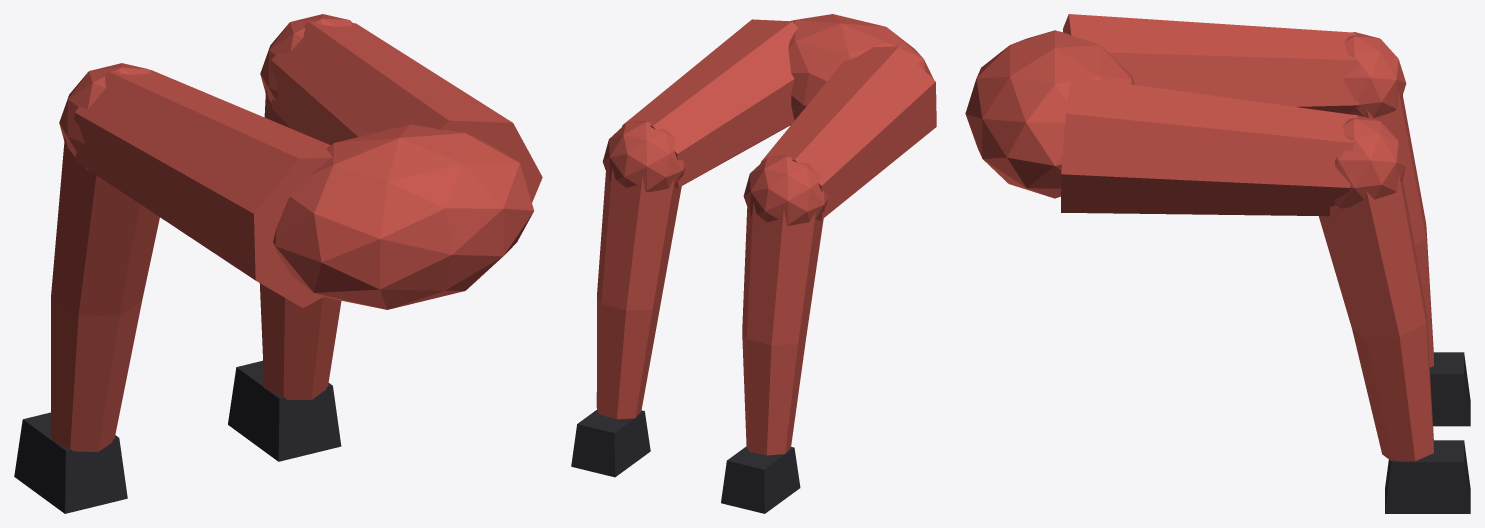
File: SatanLegsSeated.obj
3 renders of one model, left to right at view 1: azimuth 30°, elevation 25°; view 2: azimuth 150°, elevation 25°; view 3: azimuth 270°, elevation 25°, orthographic. The views are drawn at different scales.
Visible parts, largest first — view 1: SatanLegsSeated; view 2: SatanLegsSeated; view 3: SatanLegsSeated.
Part boxes in pixels (<box>): SatanLegsSeated: <box>14,14,542,513</box>; SatanLegsSeated: <box>571,14,936,513</box>; SatanLegsSeated: <box>965,14,1470,513</box>.
Size of the model in its own units: 0.49 by 0.7387 by 0.8265.
1 material, 1 textured.
